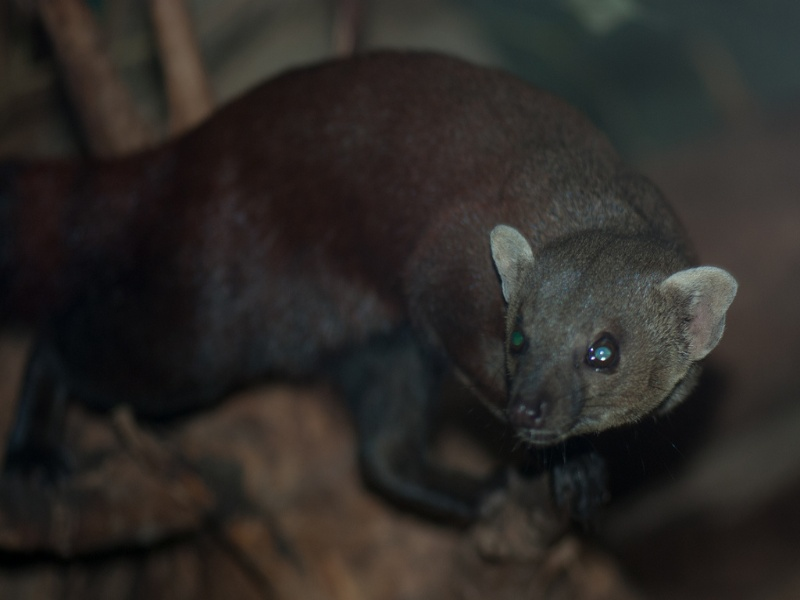minkish: (8, 40, 741, 529)
